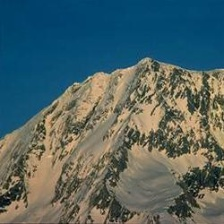neutral: (3, 4, 219, 221)
